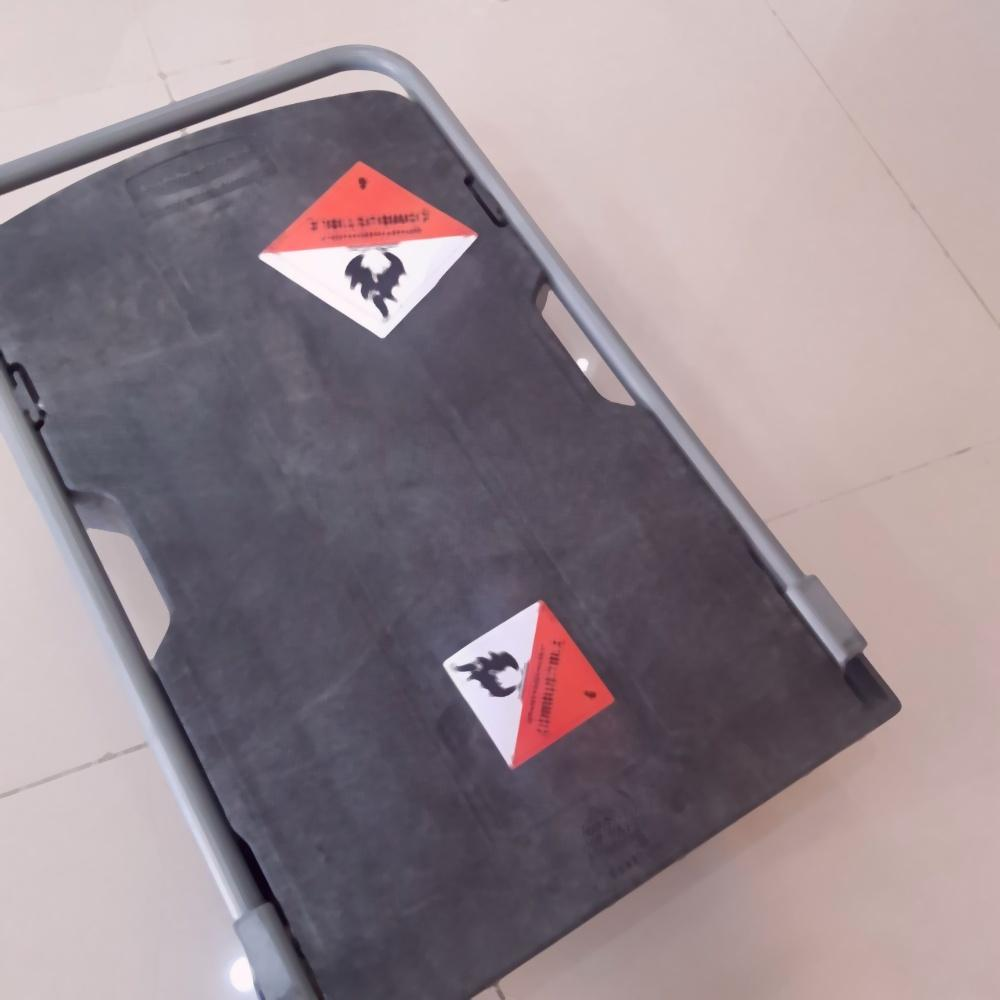spontaneously-combustible: (256, 155, 489, 341), (438, 594, 624, 771)
